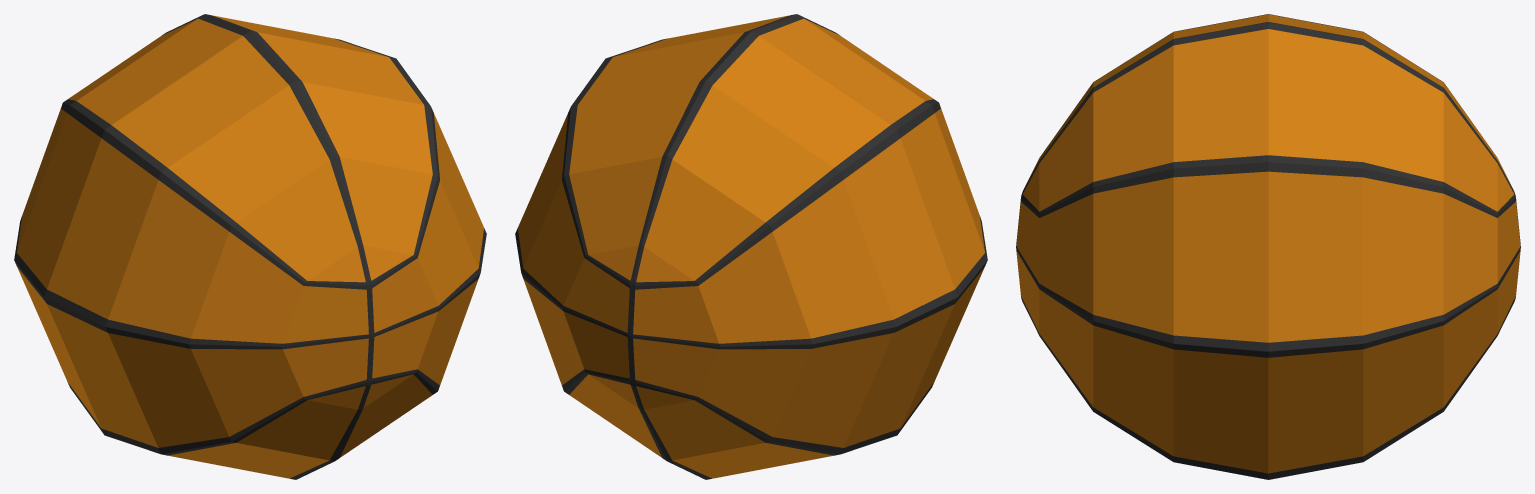
The model's file is Basketball.fbx.
3 renders of one model, left to right at view 1: azimuth 30°, elevation 25°; view 2: azimuth 150°, elevation 25°; view 3: azimuth 270°, elevation 25°, orthographic. The views are drawn at different scales.
Parts seen in each view (by area): view 1: Basketball; view 2: Basketball; view 3: Basketball.
Boxes of the visible parts, x1,y1,x2,y2 form: Basketball: [14, 14, 486, 479]; Basketball: [515, 14, 987, 479]; Basketball: [1016, 14, 1520, 479].
Bounding box in the file's own units: 240 × 240 × 244.
